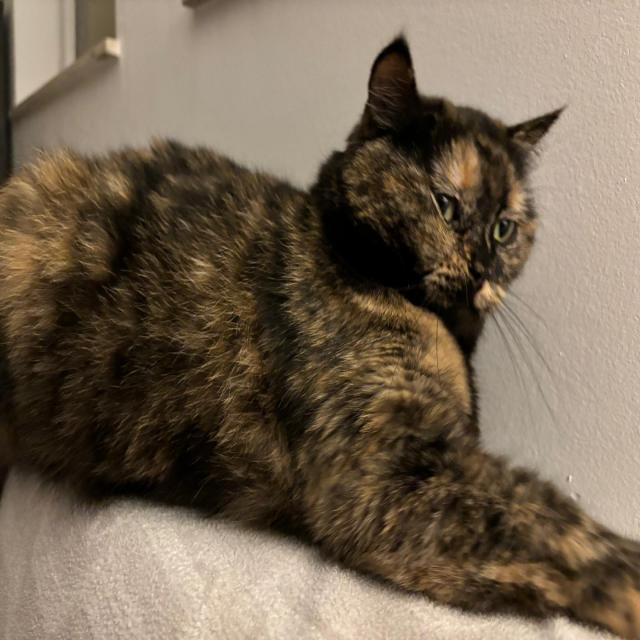authorized: (0, 32, 639, 638)
